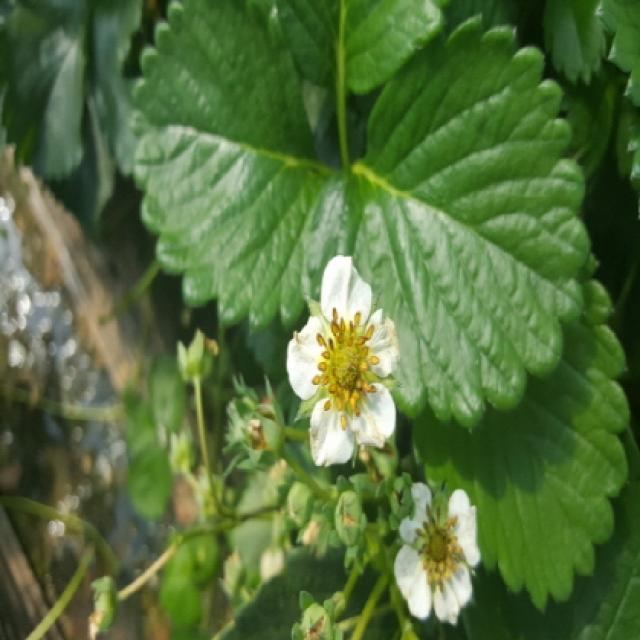Blossom Blight: (308, 303, 382, 435)
